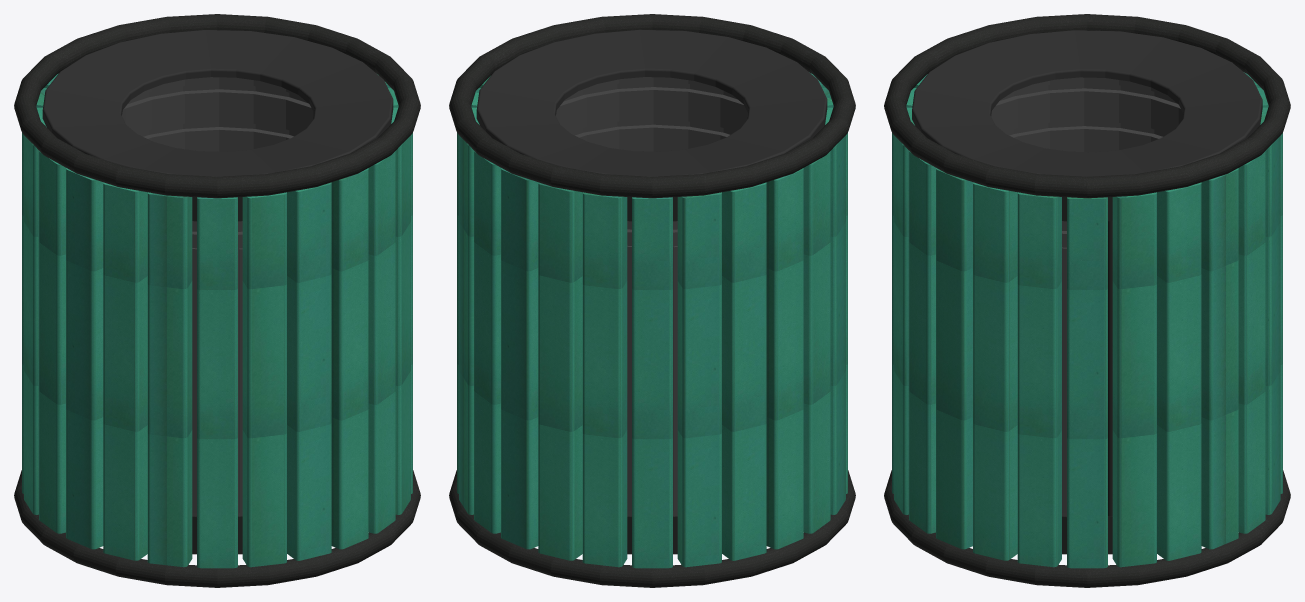
3 renders of one model, left to right at view 1: azimuth 30°, elevation 25°; view 2: azimuth 150°, elevation 25°; view 3: azimuth 270°, elevation 25°, orthographic.
Parts seen in each view (by area): view 1: mesh94.001_mesh94-geometry, mesh103.001_mesh103-geometry, mesh129.001_mesh129-geometry, mesh130.001_mesh130-geometry, mesh132.001_mesh132-geometry, mesh128.001_mesh128-geometry, mesh131.001_mesh131-geometry, mesh124.001_mesh124-geometry, mesh109.001_mesh109-geometry, mesh73.001_mesh73-geometry, mesh115.001_mesh115-geometry, mesh123.001_mesh123-geometry (+7 smaller); view 2: mesh94.001_mesh94-geometry, mesh103.001_mesh103-geometry, mesh116.001_mesh116-geometry, mesh114.001_mesh114-geometry, mesh112.001_mesh112-geometry, mesh110.001_mesh110-geometry, mesh111.001_mesh111-geometry, mesh122.001_mesh122-geometry, mesh117.001_mesh117-geometry, mesh73.001_mesh73-geometry, mesh123.001_mesh123-geometry, mesh125.001_mesh125-geometry (+7 smaller); view 3: mesh94.001_mesh94-geometry, mesh103.001_mesh103-geometry, mesh113.001_mesh113-geometry, mesh126.001_mesh126-geometry, mesh121.001_mesh121-geometry, mesh102.001_mesh102-geometry, mesh119.001_mesh119-geometry, mesh120.001_mesh120-geometry, mesh127.001_mesh127-geometry, mesh73.001_mesh73-geometry, mesh125.001_mesh125-geometry, mesh115.001_mesh115-geometry (+7 smaller).
Part boxes in pixels (left/top/right/bottom): mesh94.001_mesh94-geometry: left=42, top=30, right=393, bottom=176; mesh103.001_mesh103-geometry: left=14, top=14, right=420, bottom=198; mesh129.001_mesh129-geometry: left=147, top=192, right=192, bottom=567; mesh130.001_mesh130-geometry: left=242, top=192, right=286, bottom=567; mesh132.001_mesh132-geometry: left=287, top=182, right=331, bottom=560; mesh128.001_mesh128-geometry: left=103, top=182, right=147, bottom=560; mesh131.001_mesh131-geometry: left=197, top=197, right=237, bottom=568; mesh124.001_mesh124-geometry: left=66, top=168, right=103, bottom=549; mesh109.001_mesh109-geometry: left=331, top=168, right=368, bottom=549; mesh73.001_mesh73-geometry: left=122, top=77, right=314, bottom=516; mesh115.001_mesh115-geometry: left=368, top=151, right=395, bottom=533; mesh123.001_mesh123-geometry: left=39, top=151, right=66, bottom=533; mesh94.001_mesh94-geometry: left=476, top=29, right=827, bottom=176; mesh103.001_mesh103-geometry: left=449, top=14, right=855, bottom=198; mesh116.001_mesh116-geometry: left=582, top=192, right=627, bottom=567; mesh114.001_mesh114-geometry: left=677, top=192, right=721, bottom=567; mesh112.001_mesh112-geometry: left=538, top=182, right=582, bottom=560; mesh110.001_mesh110-geometry: left=722, top=182, right=766, bottom=560; mesh111.001_mesh111-geometry: left=632, top=197, right=672, bottom=568; mesh122.001_mesh122-geometry: left=501, top=168, right=538, bottom=549; mesh117.001_mesh117-geometry: left=766, top=168, right=803, bottom=549; mesh73.001_mesh73-geometry: left=556, top=77, right=748, bottom=516; mesh123.001_mesh123-geometry: left=803, top=151, right=830, bottom=533; mesh125.001_mesh125-geometry: left=474, top=151, right=501, bottom=533; mesh94.001_mesh94-geometry: left=912, top=30, right=1262, bottom=176; mesh103.001_mesh103-geometry: left=884, top=14, right=1290, bottom=198; mesh113.001_mesh113-geometry: left=1017, top=192, right=1061, bottom=567; mesh126.001_mesh126-geometry: left=1112, top=192, right=1156, bottom=567; mesh121.001_mesh121-geometry: left=1157, top=182, right=1201, bottom=560; mesh102.001_mesh102-geometry: left=973, top=182, right=1017, bottom=560; mesh119.001_mesh119-geometry: left=1067, top=197, right=1107, bottom=568; mesh120.001_mesh120-geometry: left=1201, top=168, right=1238, bottom=549; mesh127.001_mesh127-geometry: left=936, top=168, right=973, bottom=549; mesh73.001_mesh73-geometry: left=991, top=77, right=1183, bottom=516; mesh125.001_mesh125-geometry: left=1238, top=151, right=1265, bottom=533; mesh115.001_mesh115-geometry: left=909, top=151, right=935, bottom=533.
Size of the model in its own units: 0.5562 by 0.6174 by 0.5563.
